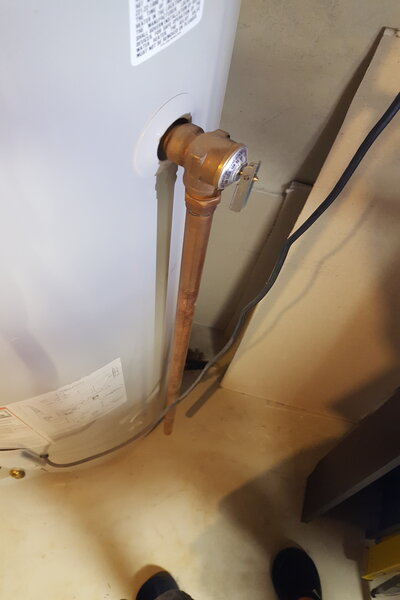valve: (152, 114, 261, 227)
